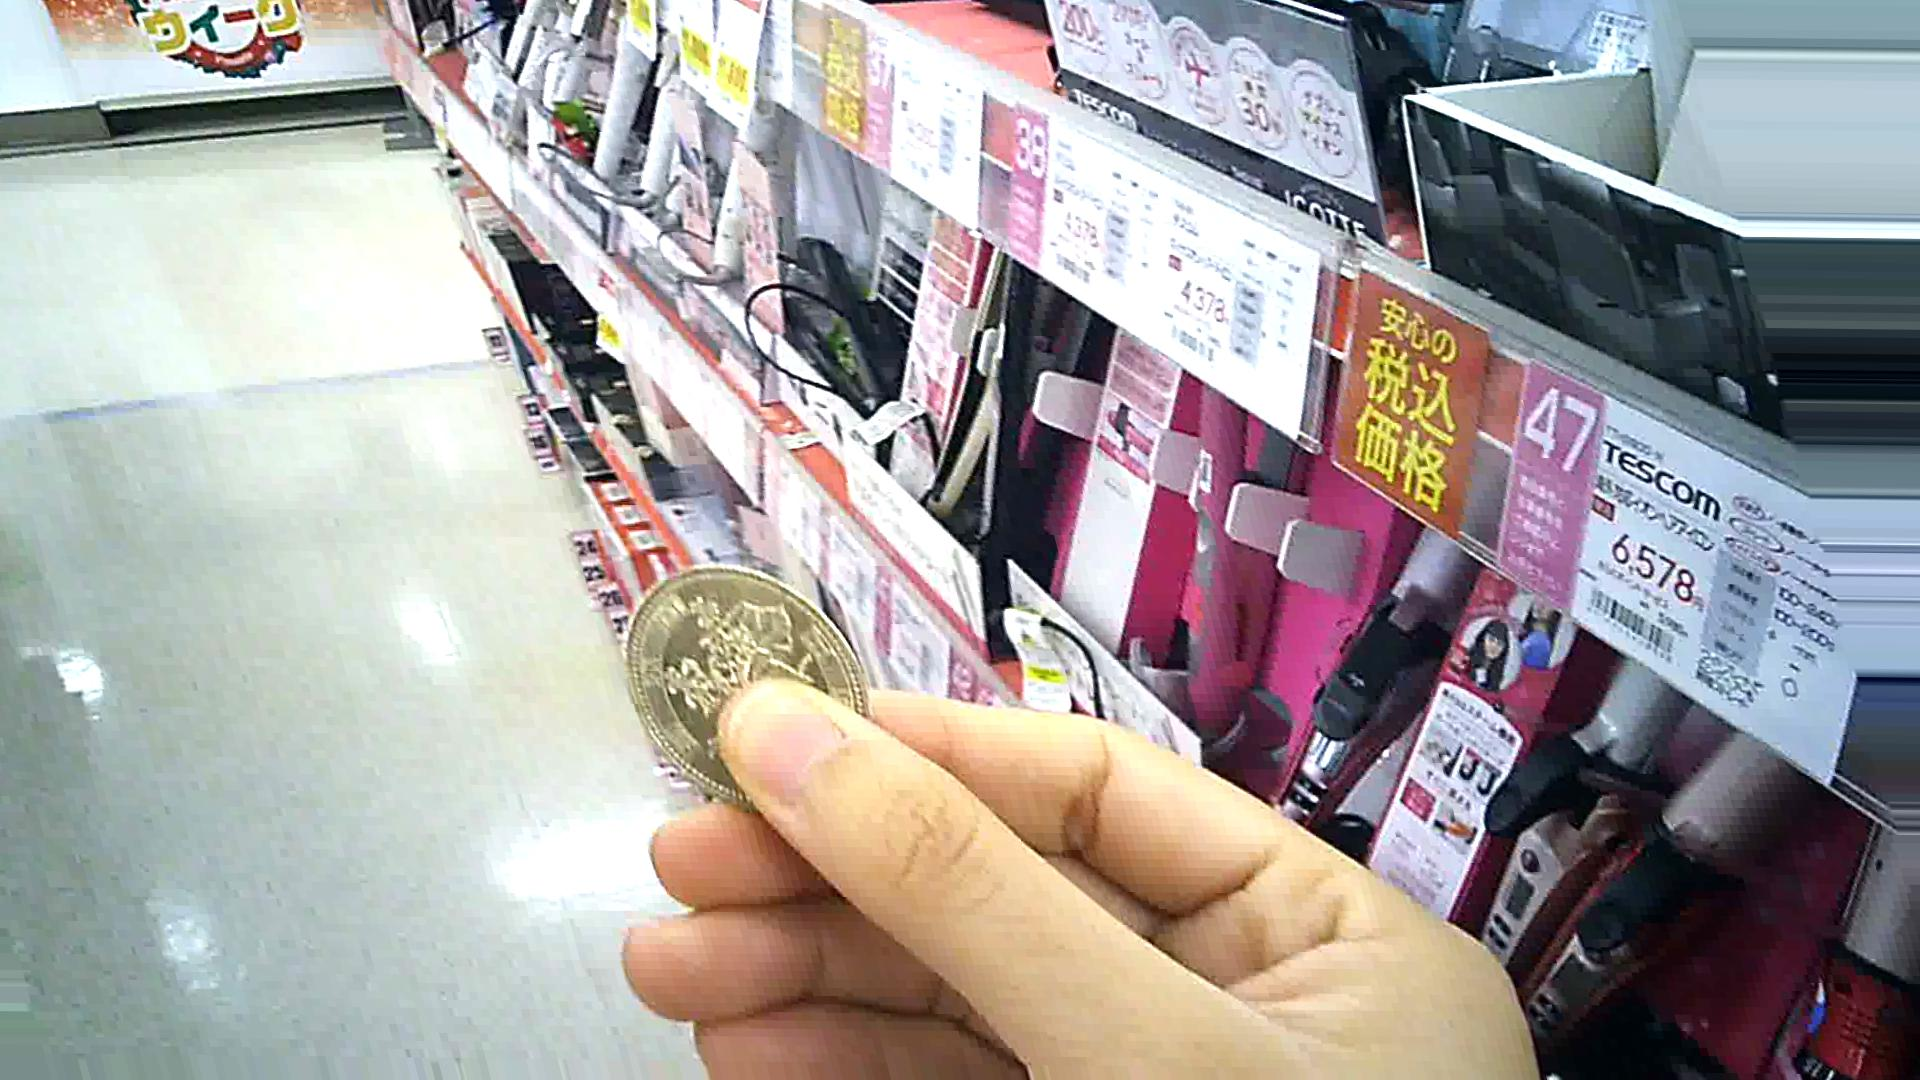500 Yen: (613, 549, 874, 833)
